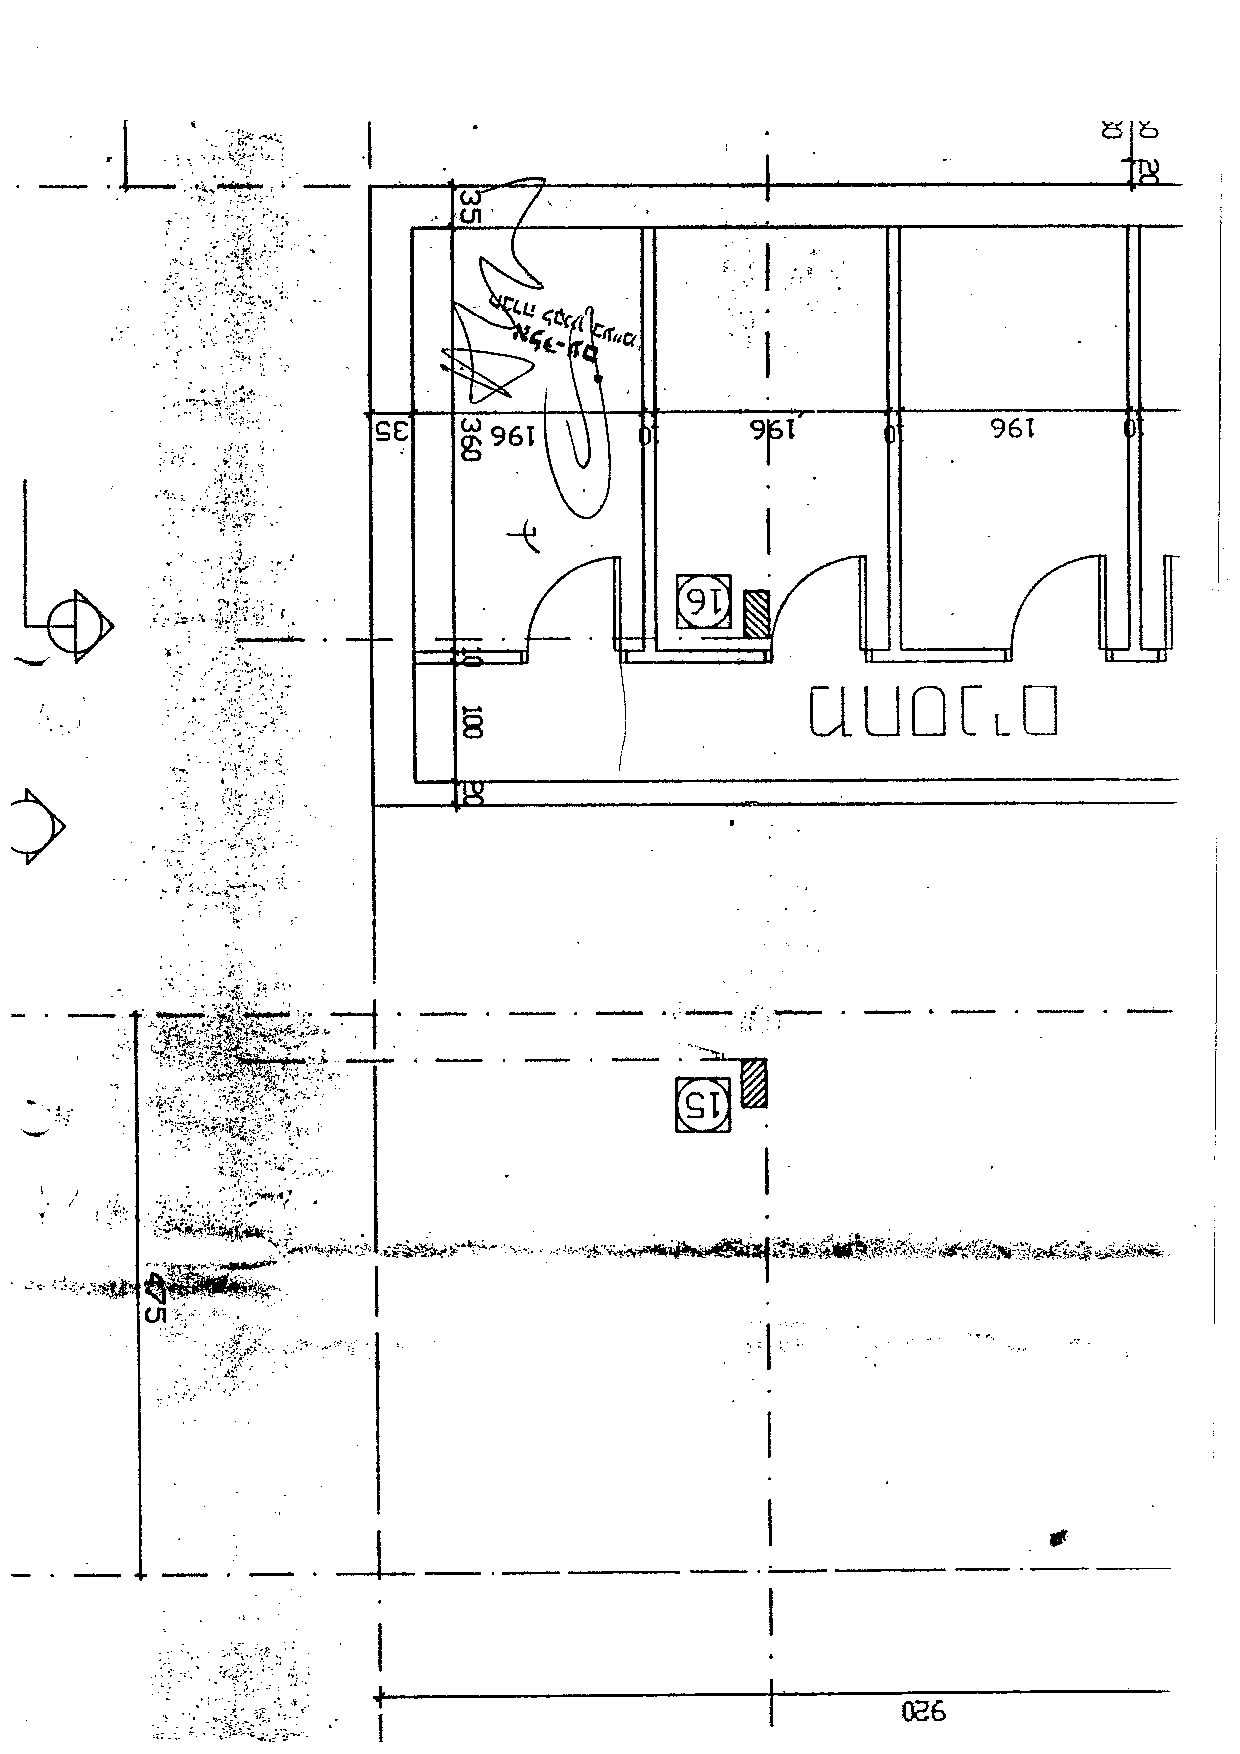door: (990, 544, 1108, 632), (778, 542, 867, 635), (527, 544, 615, 637)
